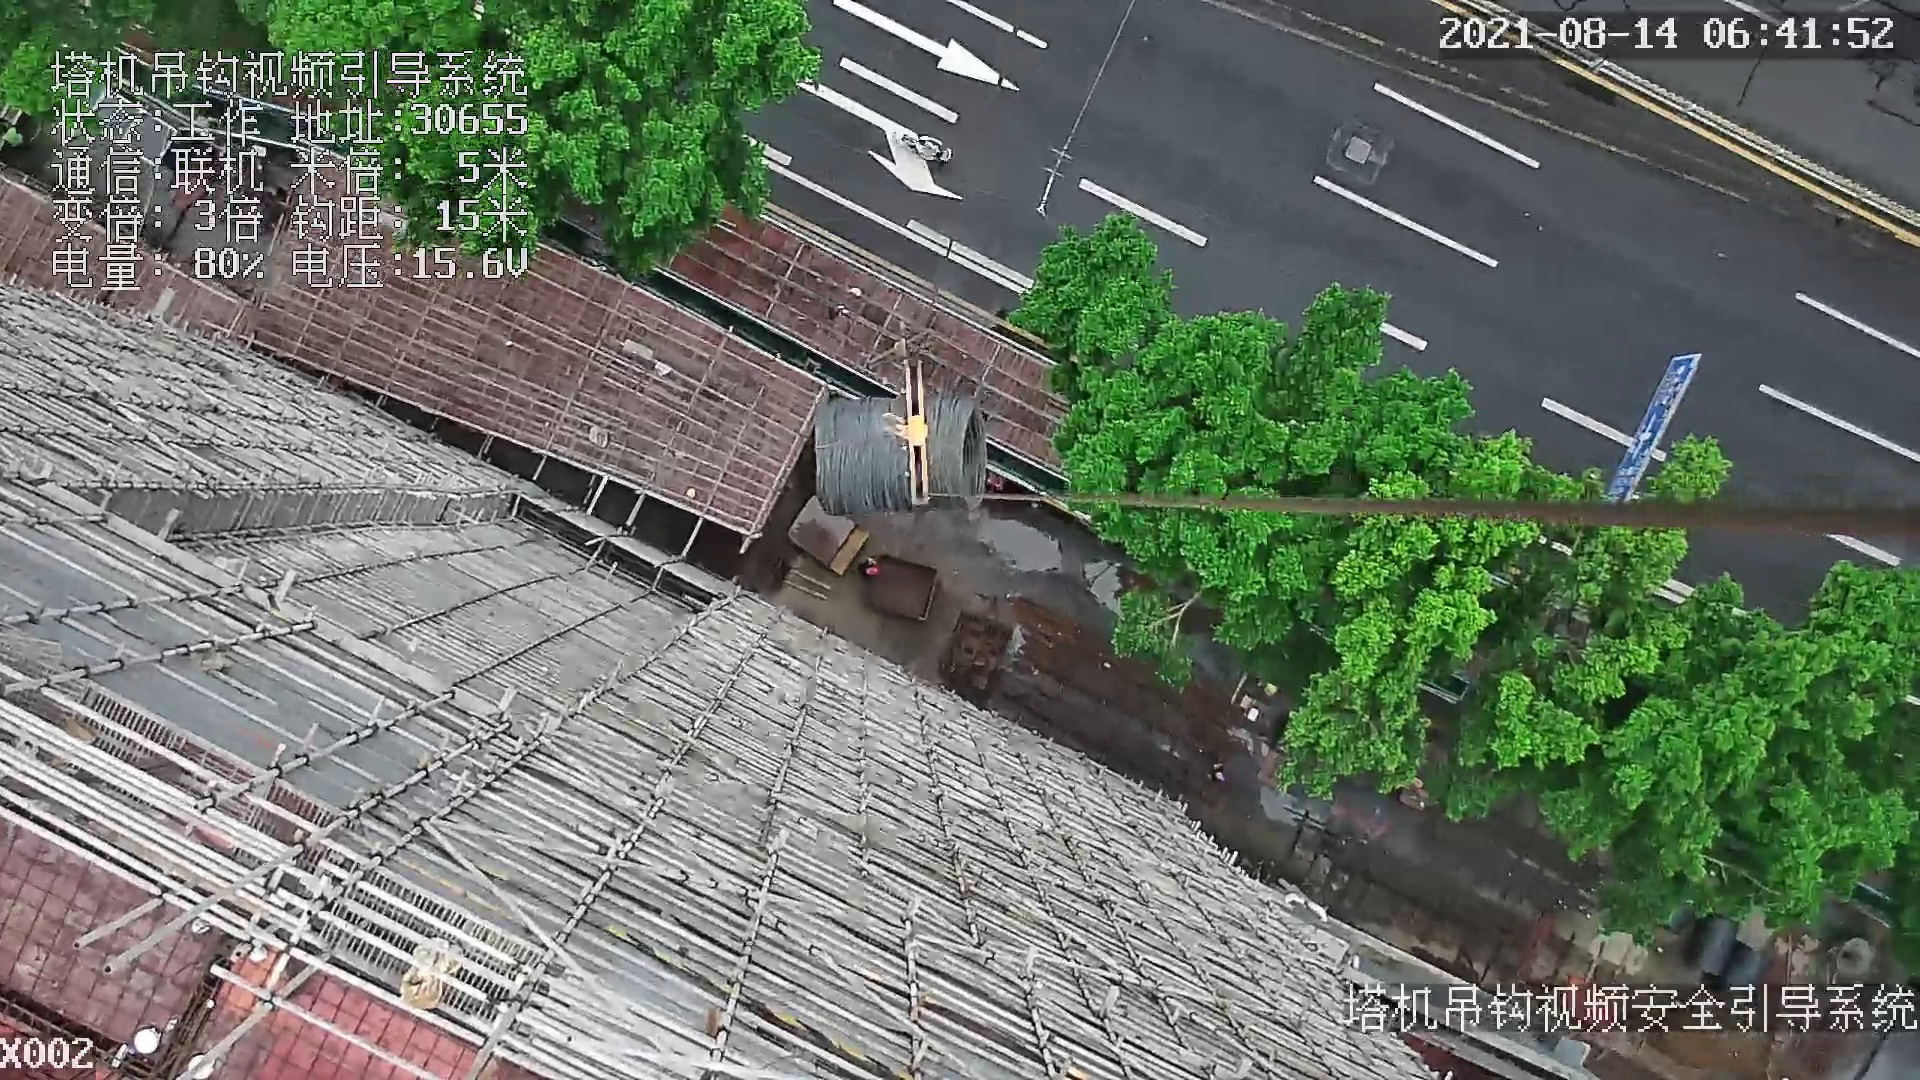hook: (881, 359, 936, 509)
person: (891, 124, 960, 169), (1208, 765, 1226, 787), (861, 558, 879, 579)
